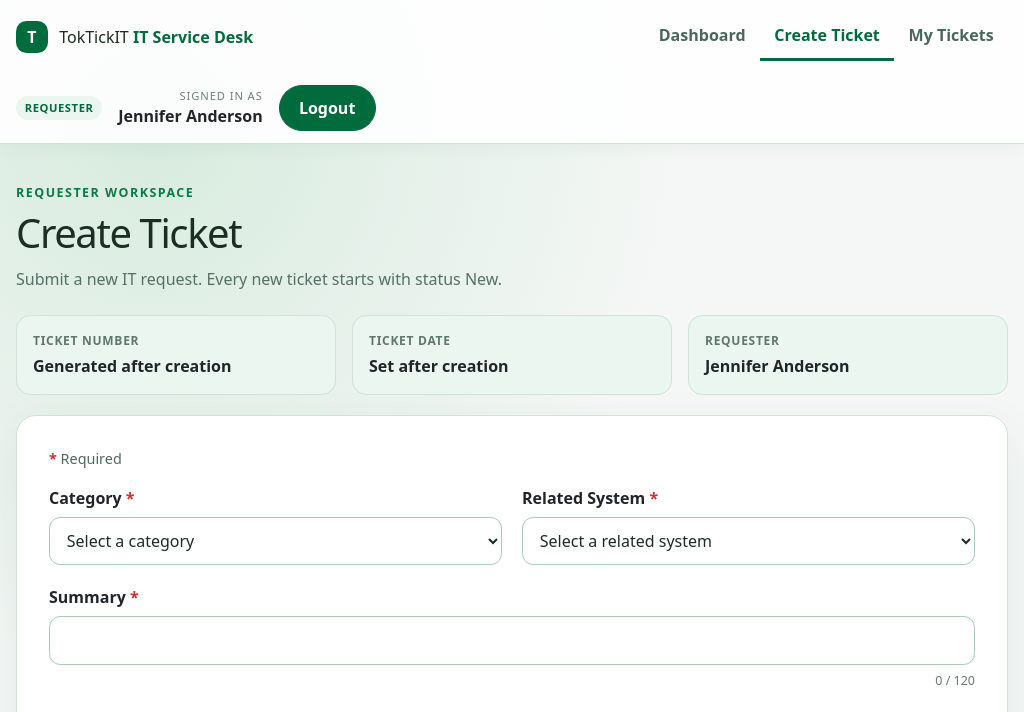
it: Create Ticket page › validates a field on blur and clears its message only after correction
The image size is (1024, 712).
Expected: the heading "Create Ticket" is shown, [16,205,241,260]
Click the field labelled "Summary" at x=512, y=641, box [49,616,975,665]
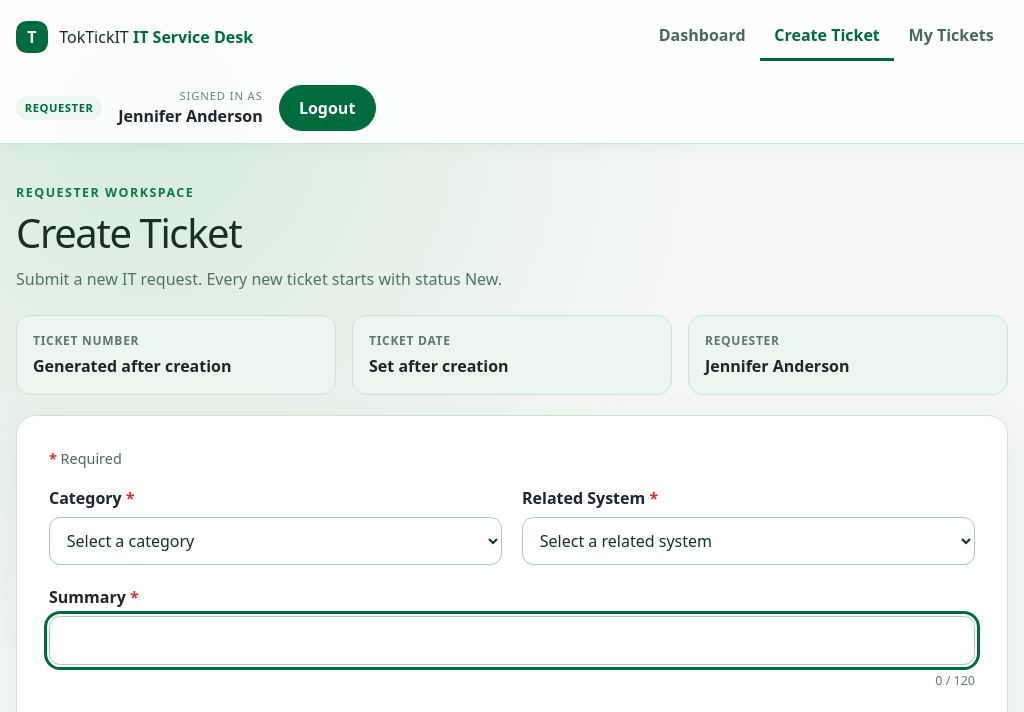
Press Tab
(page scrolled)
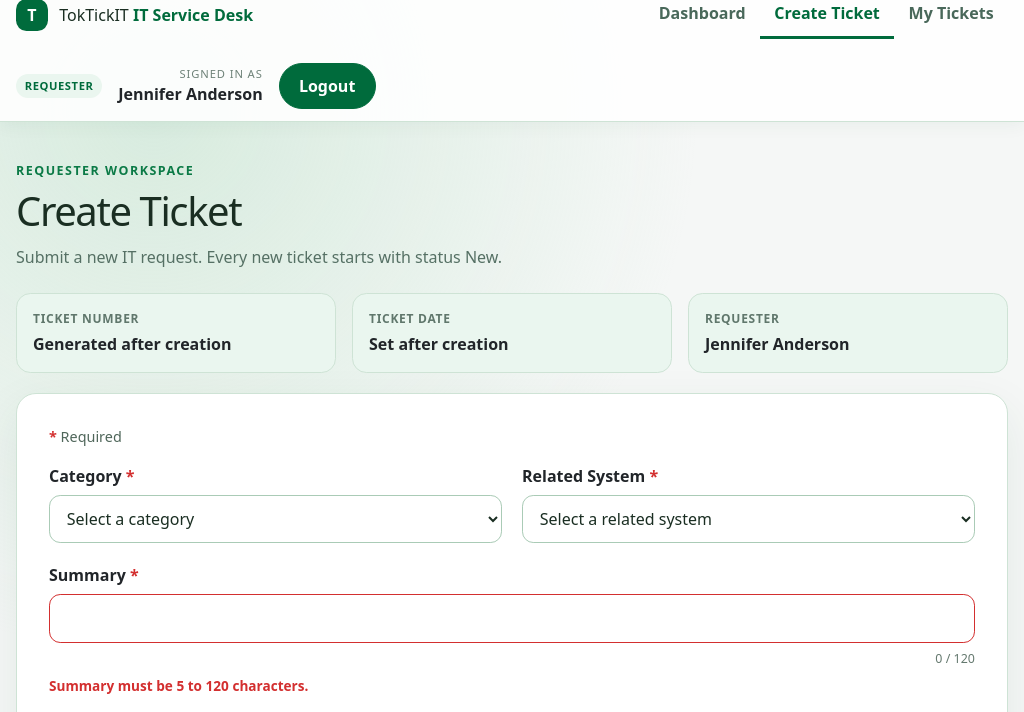
Expected: the text "Summary must be 5 to 120 characters." is shown once, [49,676,308,695]
Type "abc" into the field labelled "Summary" at x=512, y=619, box [49,594,975,643]
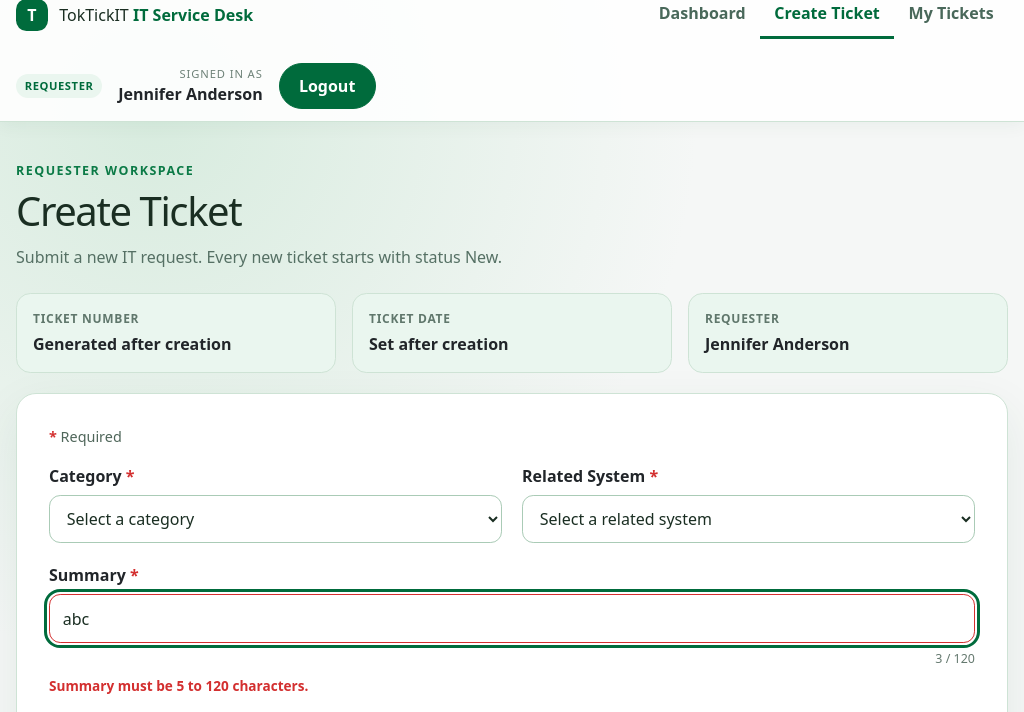
Expected: the text "Summary must be 5 to 120 characters." is shown once, [49,676,308,695]
Type "de" into the field labelled "Summary" at x=512, y=619, box [49,594,975,643]
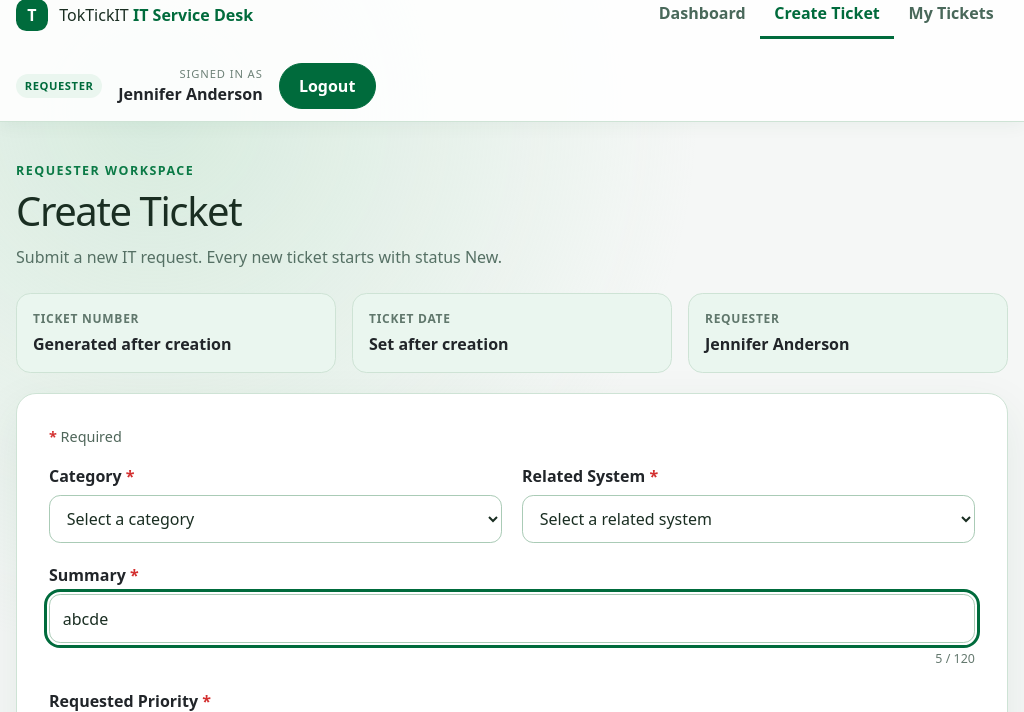
Expected: the text "Summary must be 5 to 120 characters." is not shown
